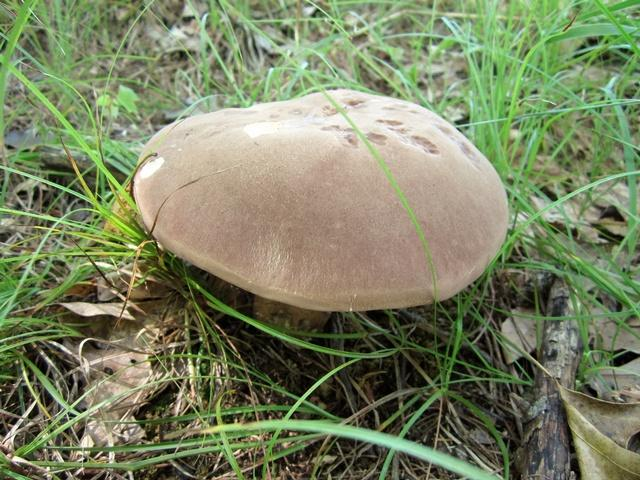poisonous_mushroom: (128, 86, 510, 334)
